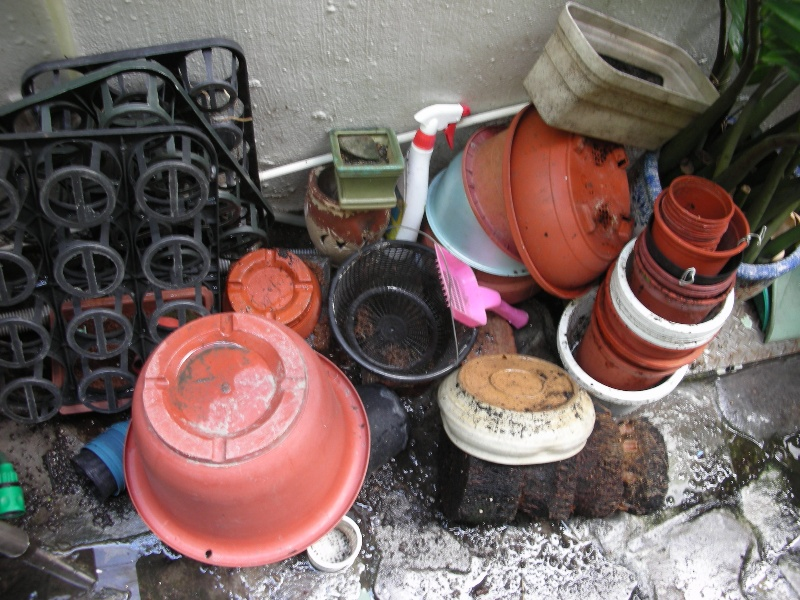bowl: (123, 309, 373, 569), (501, 100, 636, 300), (436, 352, 601, 468), (223, 242, 324, 341), (302, 162, 395, 269), (305, 515, 367, 575)
box: (523, 1, 726, 149), (326, 125, 404, 208)
